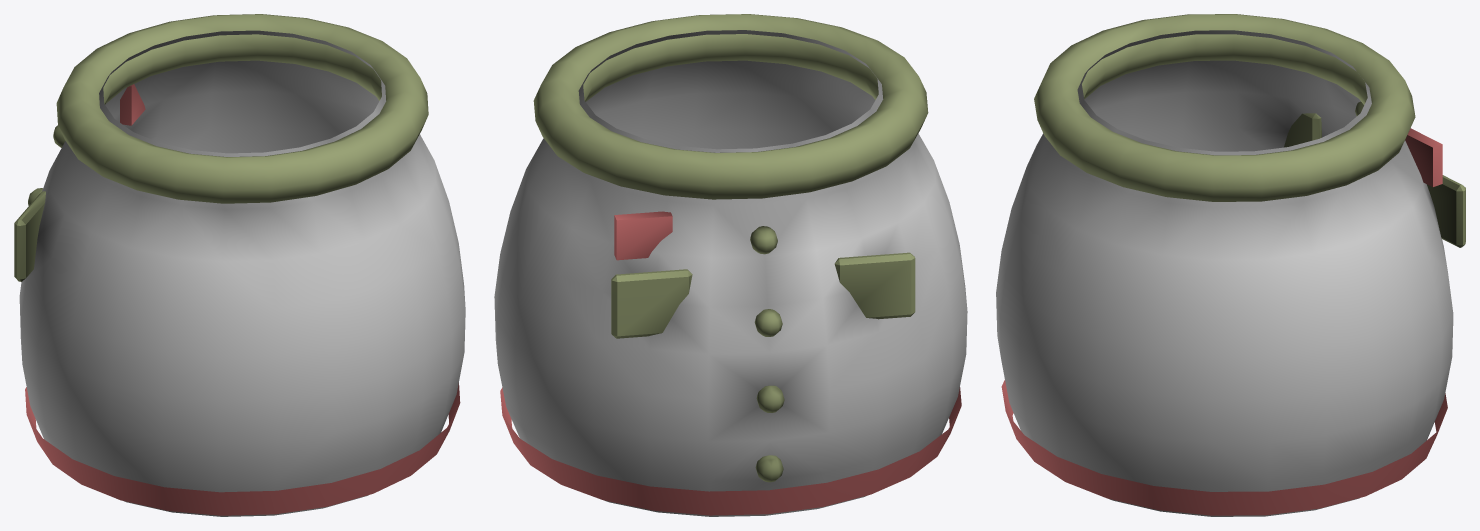
File: army_jacket_red.fbx
3 renders of one model, left to right at view 1: azimuth 30°, elevation 25°; view 2: azimuth 150°, elevation 25°; view 3: azimuth 270°, elevation 25°, orthographic.
Parts seen in each view (by area): view 1: army_jacket_red; view 2: army_jacket_red; view 3: army_jacket_red.
Part boxes in pixels (x1=…): army_jacket_red: x1=14, y1=14, x2=465, y2=516; army_jacket_red: x1=494, y1=14, x2=967, y2=516; army_jacket_red: x1=996, y1=14, x2=1465, y2=516.
Bounding box in the file's own units: 1.49 × 1.22 × 1.5.
